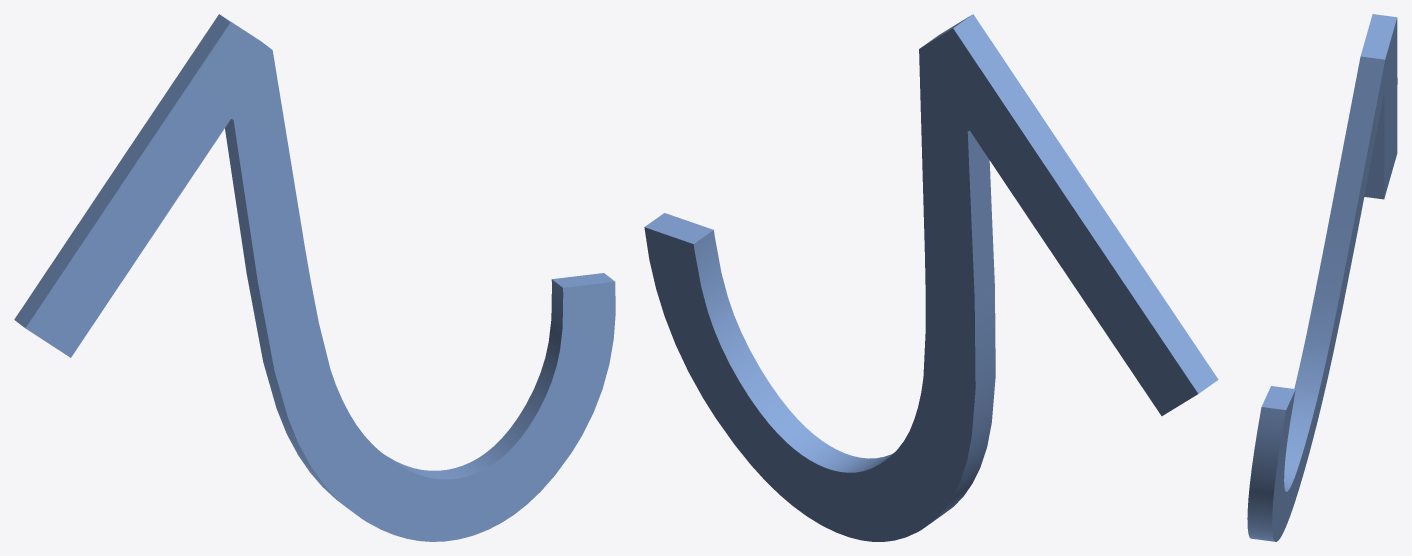
The model's file is New_Number_2.gltf.
3 views of the same model, side by side, from view 1: azimuth 30°, elevation 25°; view 2: azimuth 150°, elevation 25°; view 3: azimuth 270°, elevation 25° (orthographic). The views are drawn at different scales.
Visible parts, largest first — view 1: Part 155; view 2: Part 155; view 3: Part 155.
Boxes of the visible parts, <box> form: Part 155: <box>14,14,615,541</box>; Part 155: <box>644,14,1218,541</box>; Part 155: <box>1247,14,1397,541</box>.
Bounding box in the file's own units: 0.00549 × 0.00507 × 0.00154.
